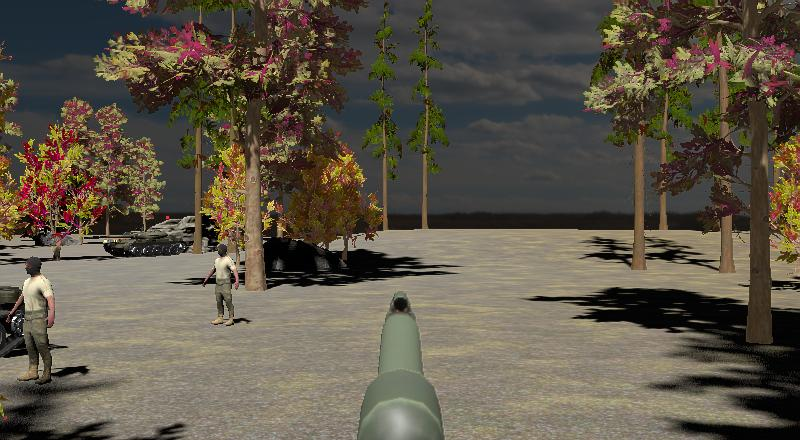Human: (5, 247, 59, 385), (200, 239, 243, 330)
Tank: (78, 228, 195, 260)
